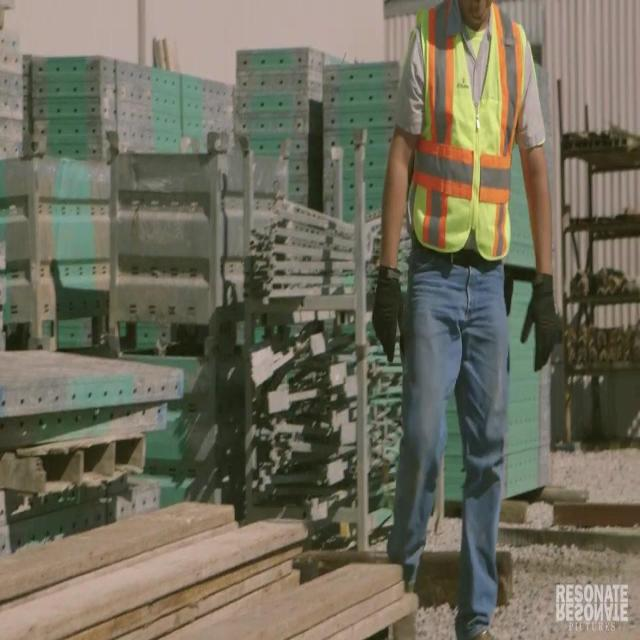Vest: (402, 1, 528, 261)
